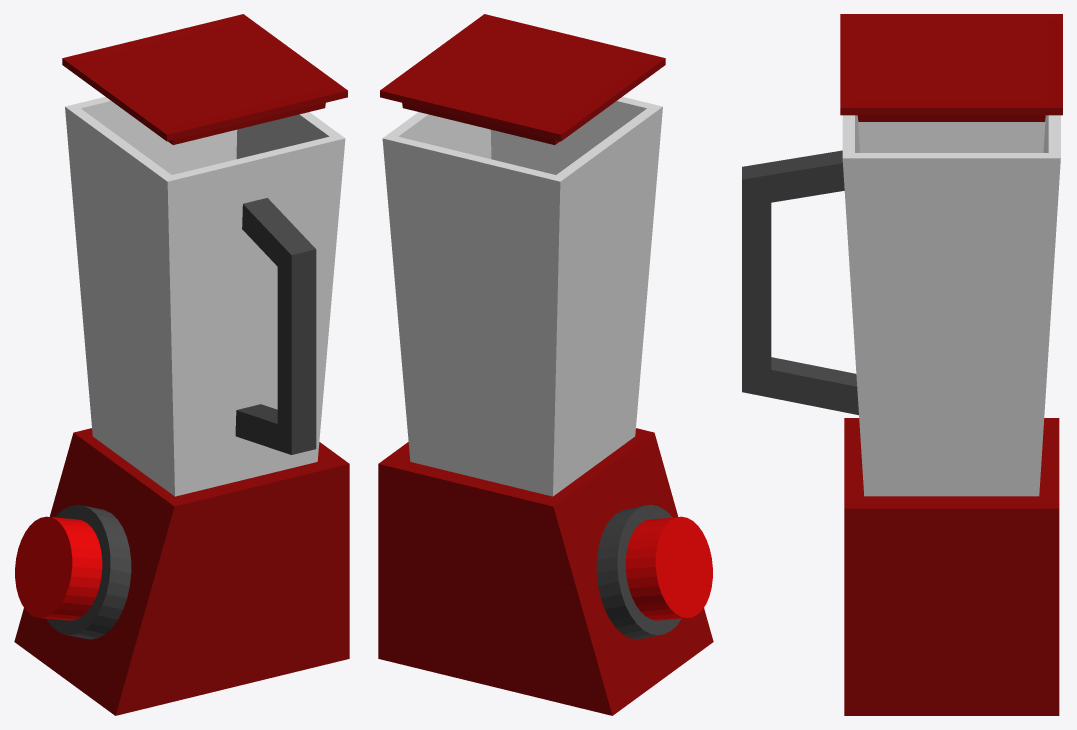
Rendered from blender.fbx.
3 views of the same model, side by side, from view 1: azimuth 30°, elevation 25°; view 2: azimuth 150°, elevation 25°; view 3: azimuth 270°, elevation 25° (orthographic). The views are drawn at different scales.
Parts seen in each view (by area): view 1: BlenderCup, BlenderBase, BlenderTop, BlenderHandle, Button, ButtonBase; view 2: BlenderCup, BlenderBase, BlenderTop, Button, ButtonBase; view 3: BlenderCup, BlenderBase, BlenderTop, BlenderHandle.
Part boxes in pixels (bbox=[...]): BlenderCup: bbox=[65, 96, 345, 496]; BlenderBase: bbox=[14, 428, 349, 715]; BlenderTop: bbox=[62, 14, 347, 144]; BlenderHandle: bbox=[235, 198, 316, 454]; Button: bbox=[15, 516, 102, 620]; ButtonBase: bbox=[47, 504, 131, 639]; BlenderCup: bbox=[382, 96, 662, 496]; BlenderBase: bbox=[378, 428, 713, 715]; BlenderTop: bbox=[380, 14, 665, 144]; Button: bbox=[625, 516, 712, 620]; ButtonBase: bbox=[596, 504, 680, 639]; BlenderCup: bbox=[842, 115, 1060, 496]; BlenderBase: bbox=[844, 418, 1059, 715]; BlenderTop: bbox=[840, 14, 1062, 121]; BlenderHandle: bbox=[742, 150, 858, 415].
Bounding box in the file's own units: 436 × 884 × 424.
